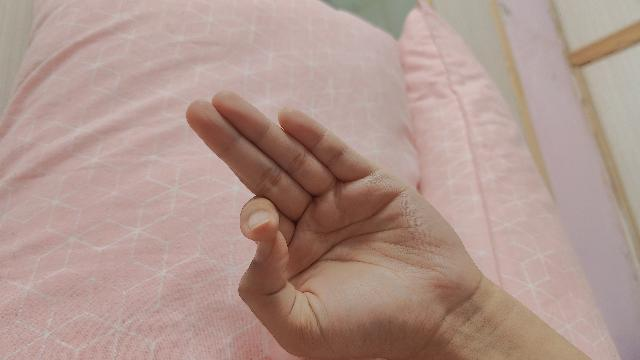aral: (185, 92, 592, 360)
